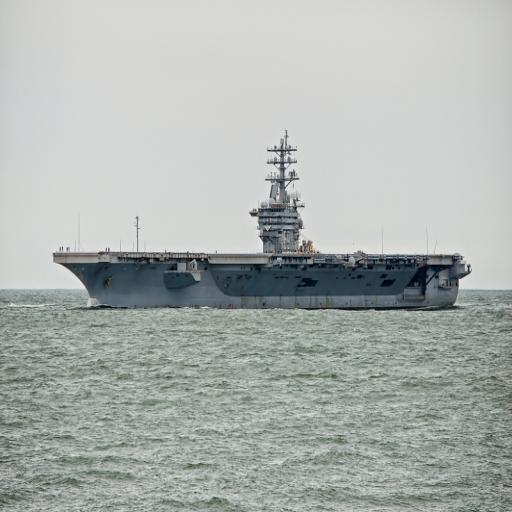Portanaves: (52, 126, 475, 313)
